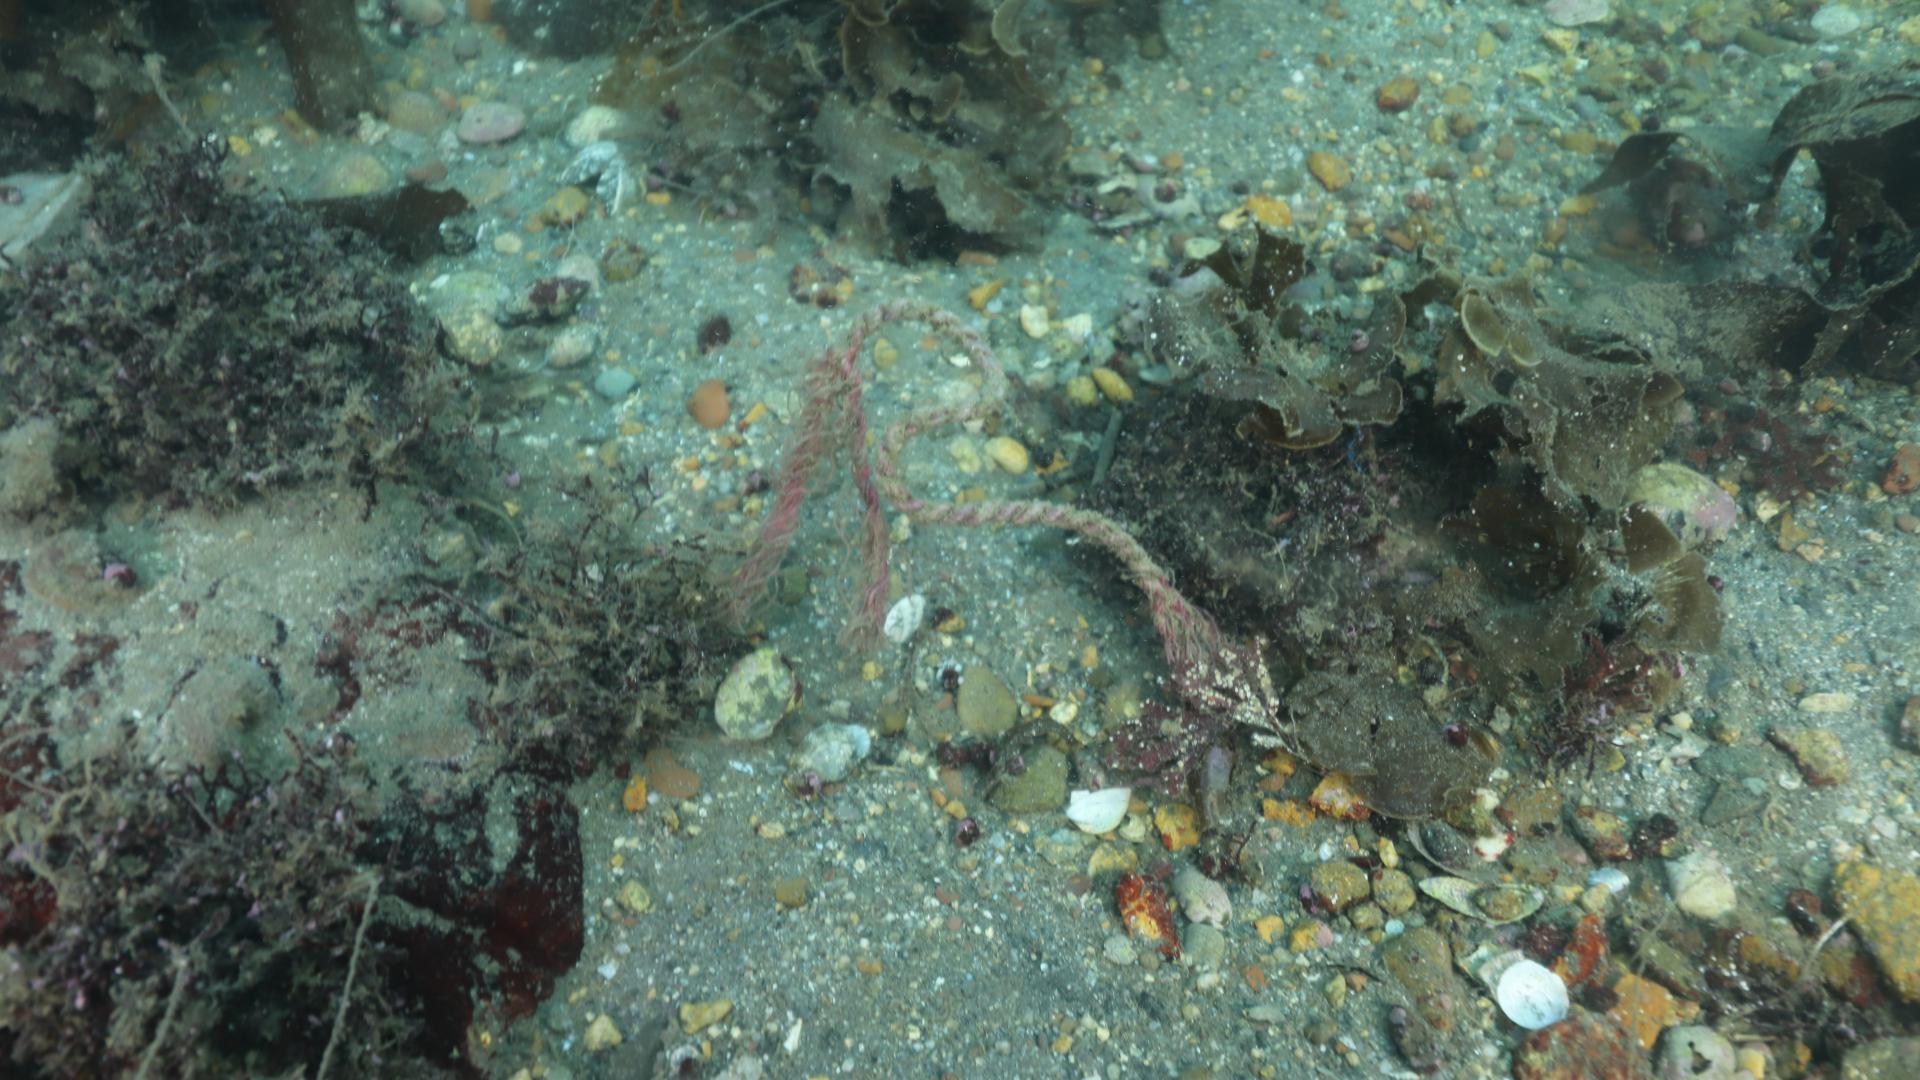rope: (833, 295, 1171, 597)
